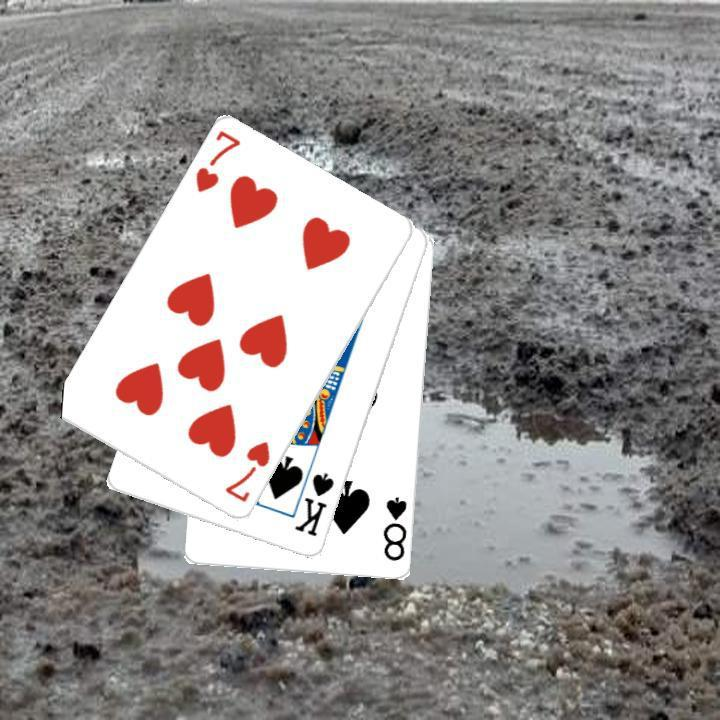7: (191, 126, 243, 196), (220, 437, 272, 505)
8: (379, 492, 410, 564)
K: (291, 468, 337, 539)
